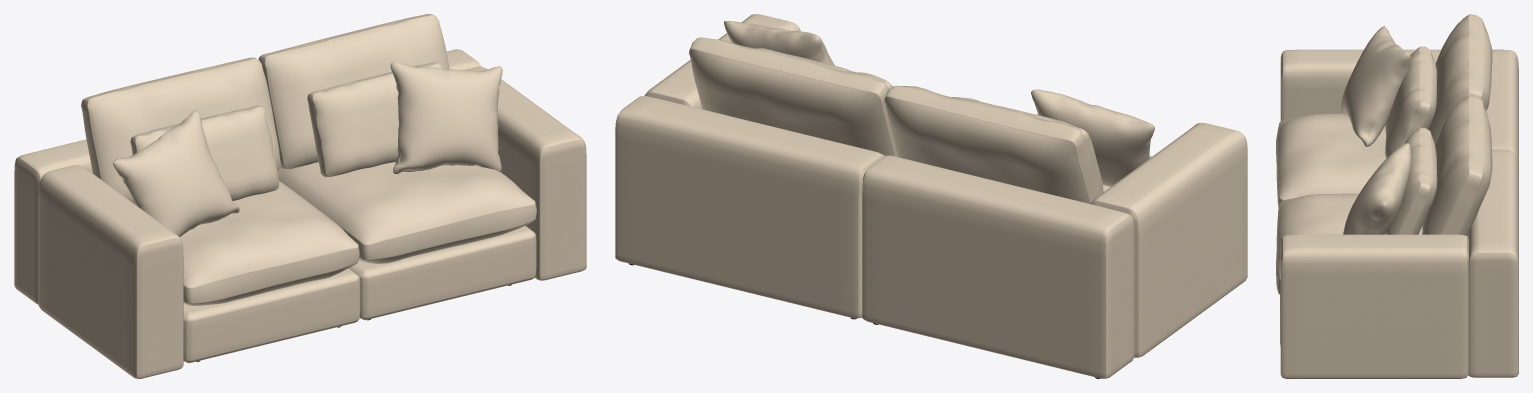
3 renders of one model, left to right at view 1: azimuth 30°, elevation 25°; view 2: azimuth 150°, elevation 25°; view 3: azimuth 270°, elevation 25°, orthographic. The views are drawn at different scales.
Parts seen in each view (by area): view 1: 15426131; view 2: 15426131; view 3: 15426131.
Part boxes in pixels (bbox=[...]): 15426131: bbox=[14, 14, 586, 378]; 15426131: bbox=[615, 14, 1247, 378]; 15426131: bbox=[1276, 14, 1518, 378].
Size of the model in its own units: 2.1 by 0.89 by 1.04.
2 materials, 2 textured.
